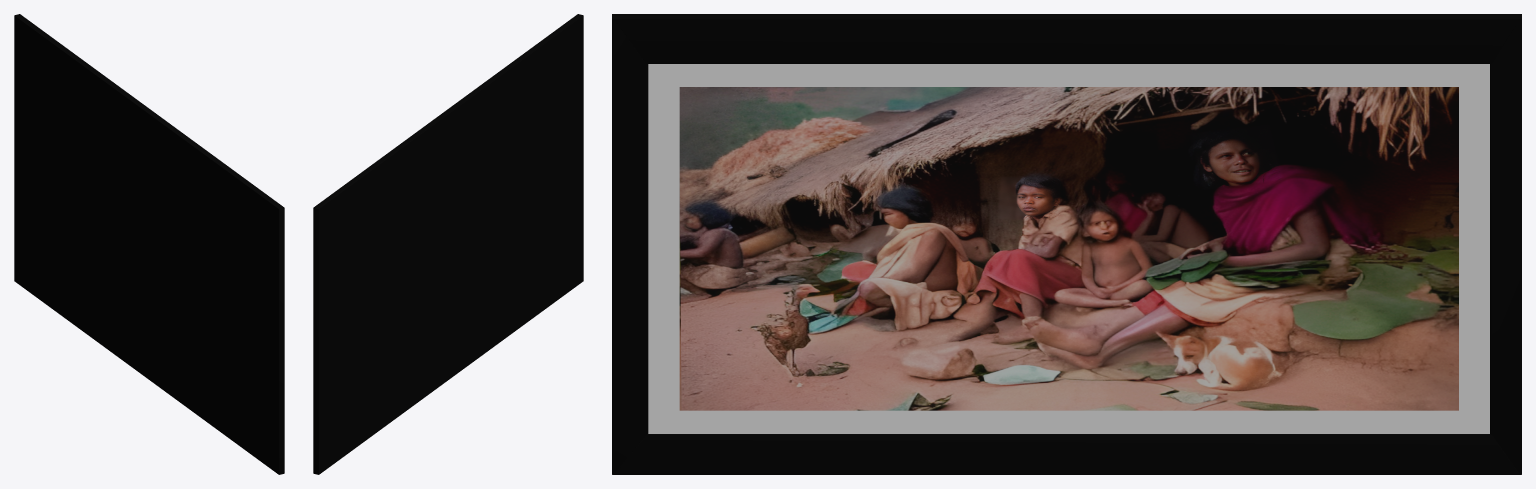
The model's file is Frame9.fbx.
3 views of the same model, side by side, from view 1: azimuth 30°, elevation 25°; view 2: azimuth 150°, elevation 25°; view 3: azimuth 270°, elevation 25° (orthographic). The views are drawn at different scales.
Visible parts, largest first — view 1: Box046.001; view 2: Box046.001; view 3: Box046.001.
Part boxes in pixels (x1=…): Box046.001: x1=14, y1=14, x2=284, y2=474; Box046.001: x1=313, y1=14, x2=583, y2=474; Box046.001: x1=612, y1=14, x2=1521, y2=474.
Bounding box in the file's own units: 6.3 × 269 × 486.
Materials: 3 (1 with a texture image).
